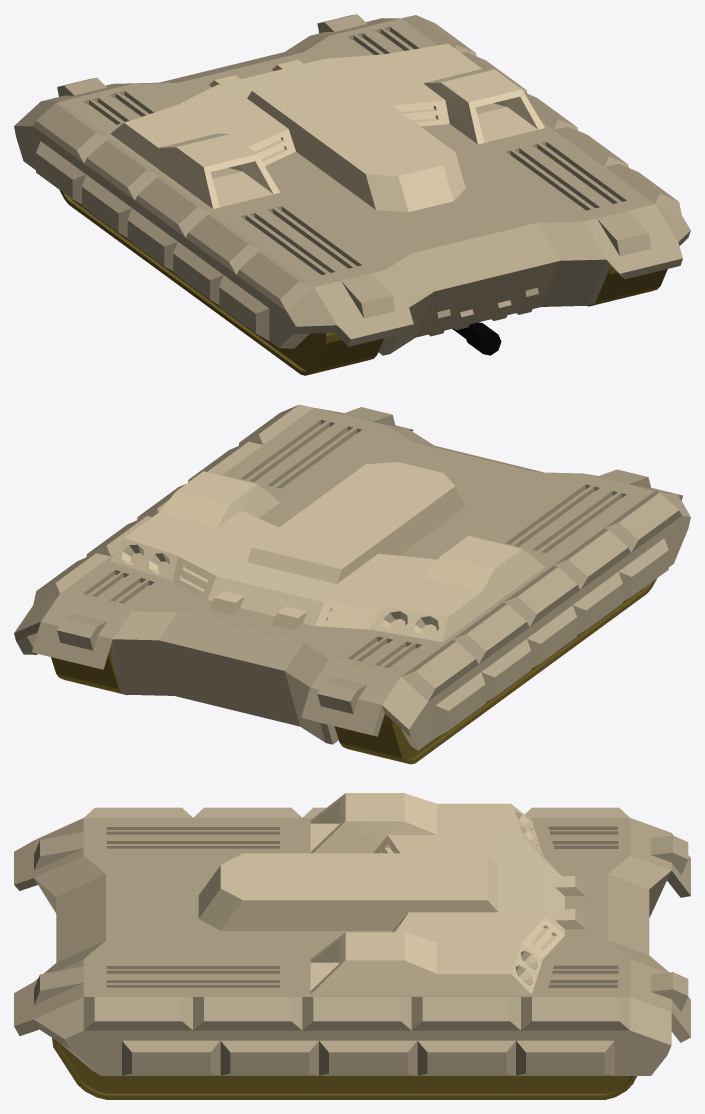
File: Tank.obj
3 views of the same model, one above another, from view 1: azimuth 30°, elevation 25°; view 2: azimuth 150°, elevation 25°; view 3: azimuth 270°, elevation 25° (orthographic). The views are drawn at different scales.
Parts seen in each view (by area): view 1: Body, Cannon; view 2: Body; view 3: Body.
Boxes of the visible parts, bbox=[...] form: Body: bbox=[14, 14, 690, 375]; Cannon: bbox=[452, 322, 501, 355]; Body: bbox=[14, 404, 690, 764]; Body: bbox=[14, 793, 690, 1099].
Size of the model in its own units: 6.9 by 2.33 by 9.11.
